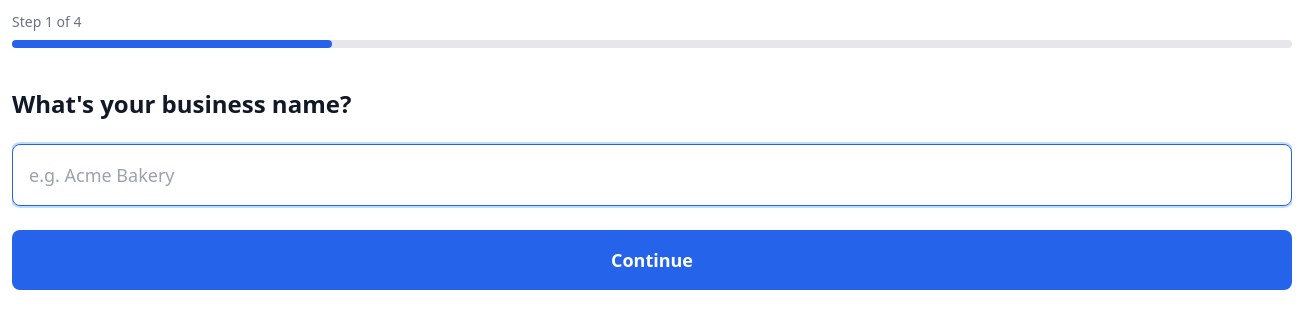
Test: BusinessIntroWizard › blocks advancing past a step when the field is left blank
This screenshot has width=1304, height=336.
Click the button "Continue": (652, 260) x1=12 y1=230 x2=1292 y2=290
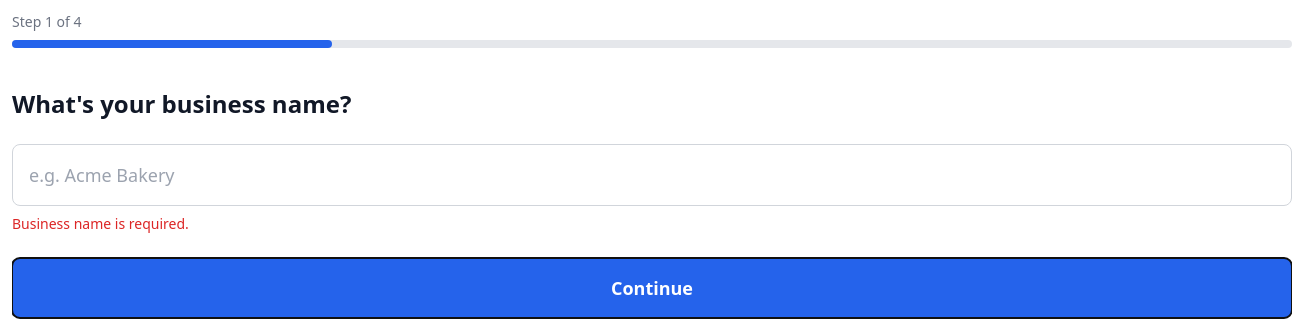
Expected: the text "Step 1 of 4" is shown, x1=12 y1=12 x2=82 y2=31
Now the text "Business name is required." is shown, box x1=12 y1=214 x2=189 y2=233
